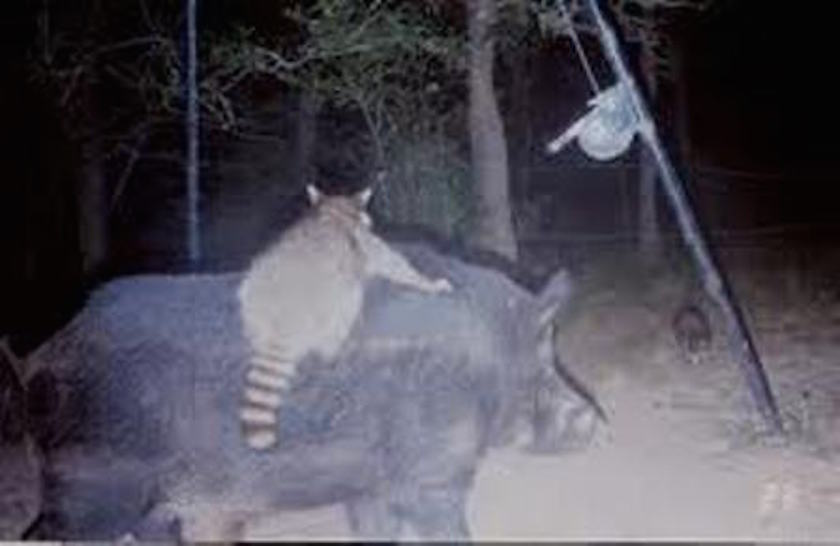javelina: (11, 219, 626, 538)
raccoon: (235, 187, 468, 460), (660, 303, 716, 368)
